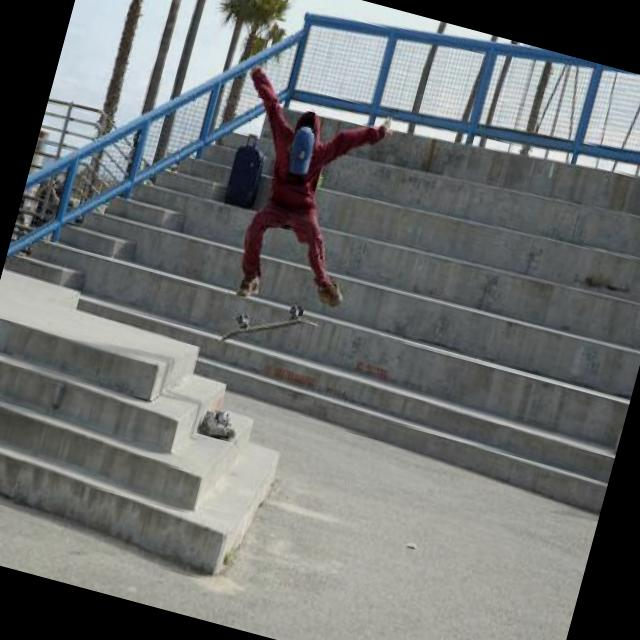Person: (194, 62, 401, 326), (27, 165, 66, 232)
